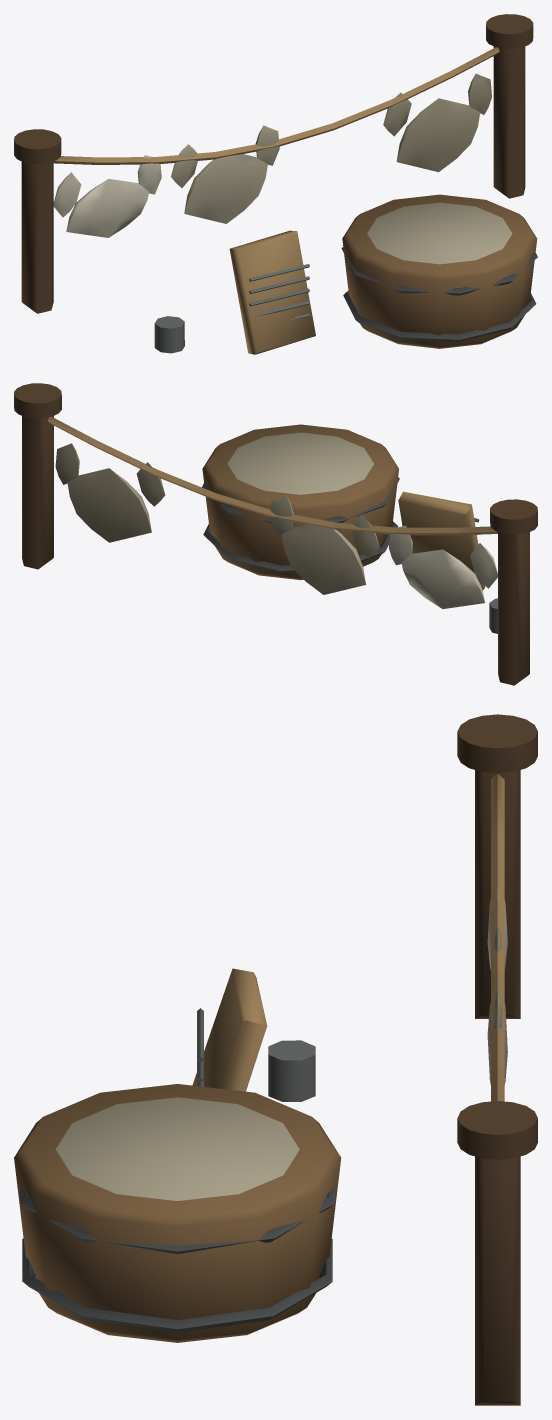
Rendered from washline_b_lod1.glb.
The picture shows the model from 3 angles, top to bottom: view 1: azimuth 30°, elevation 25°; view 2: azimuth 150°, elevation 25°; view 3: azimuth 270°, elevation 25°; orthographic projection. The views are drawn at different scales.
Visible parts, largest first — view 1: Surface.001; view 2: Surface.001; view 3: Surface.001.
Part boxes in pixels (x1,y1,x2,y2): Surface.001: (14,14,537,354); Surface.001: (14,383,537,685); Surface.001: (14,714,537,1405).
Size of the model in its own units: 4.35 by 1.46 by 2.29.
